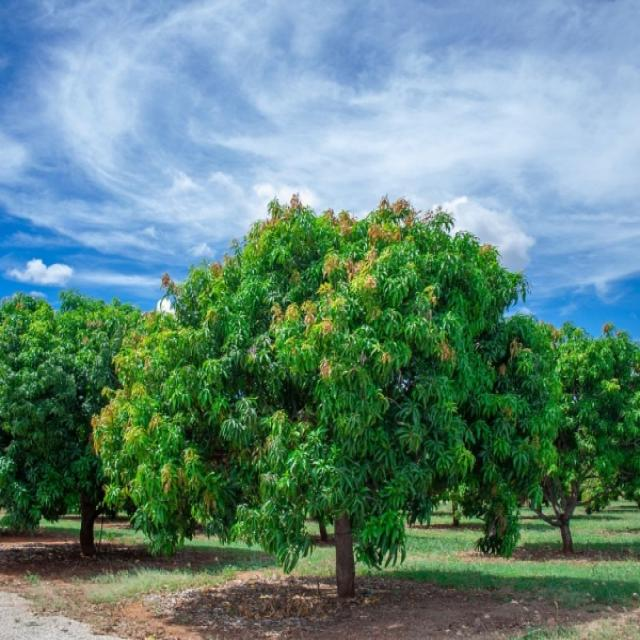Mango-Tree: (83, 187, 571, 580), (2, 284, 135, 540), (513, 313, 639, 549)
